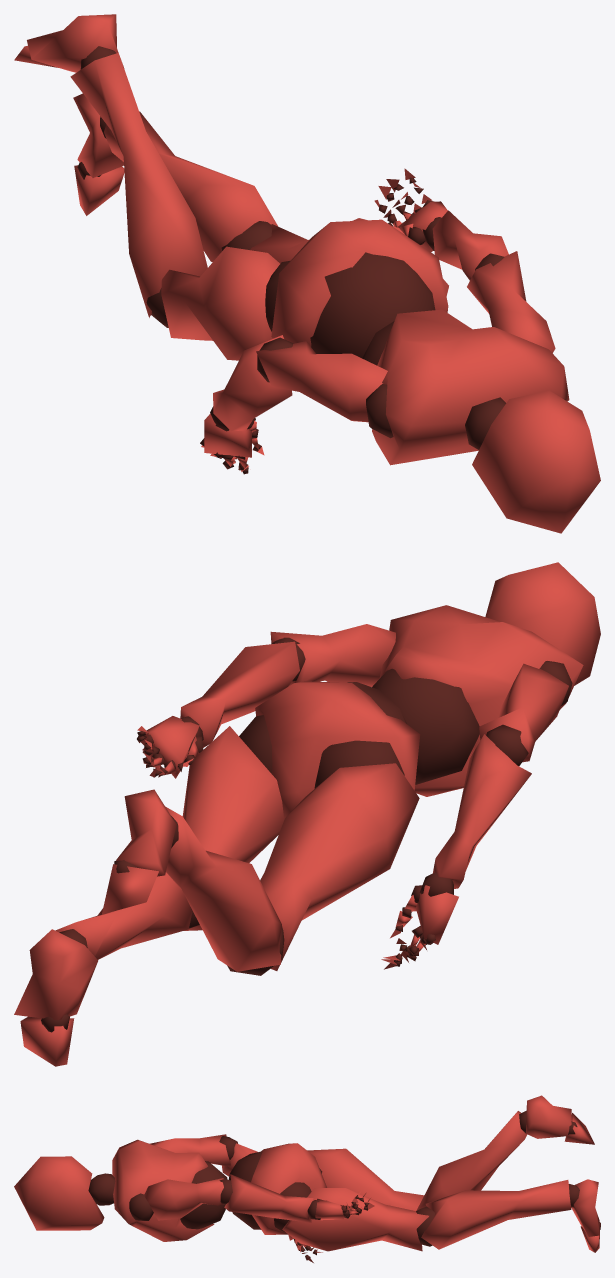
3 views of the same model, one above another, from view 1: azimuth 30°, elevation 25°; view 2: azimuth 150°, elevation 25°; view 3: azimuth 270°, elevation 25° (orthographic). The views are drawn at different scales.
Visible parts, largest first — view 1: Beta_Surface, Beta_Joints; view 2: Beta_Surface, Beta_Joints; view 3: Beta_Surface, Beta_Joints.
Part boxes in pixels (x1,y1,x2,y2): Beta_Surface: (14,14,600,533); Beta_Joints: (77,46,505,474); Beta_Surface: (14,562,600,1066); Beta_Joints: (41,637,572,1032); Beta_Surface: (14,1095,599,1262); Beta_Joints: (88,1110,600,1260).
Bounding box in the file's own units: 0.5854 × 0.5934 × 1.8.
